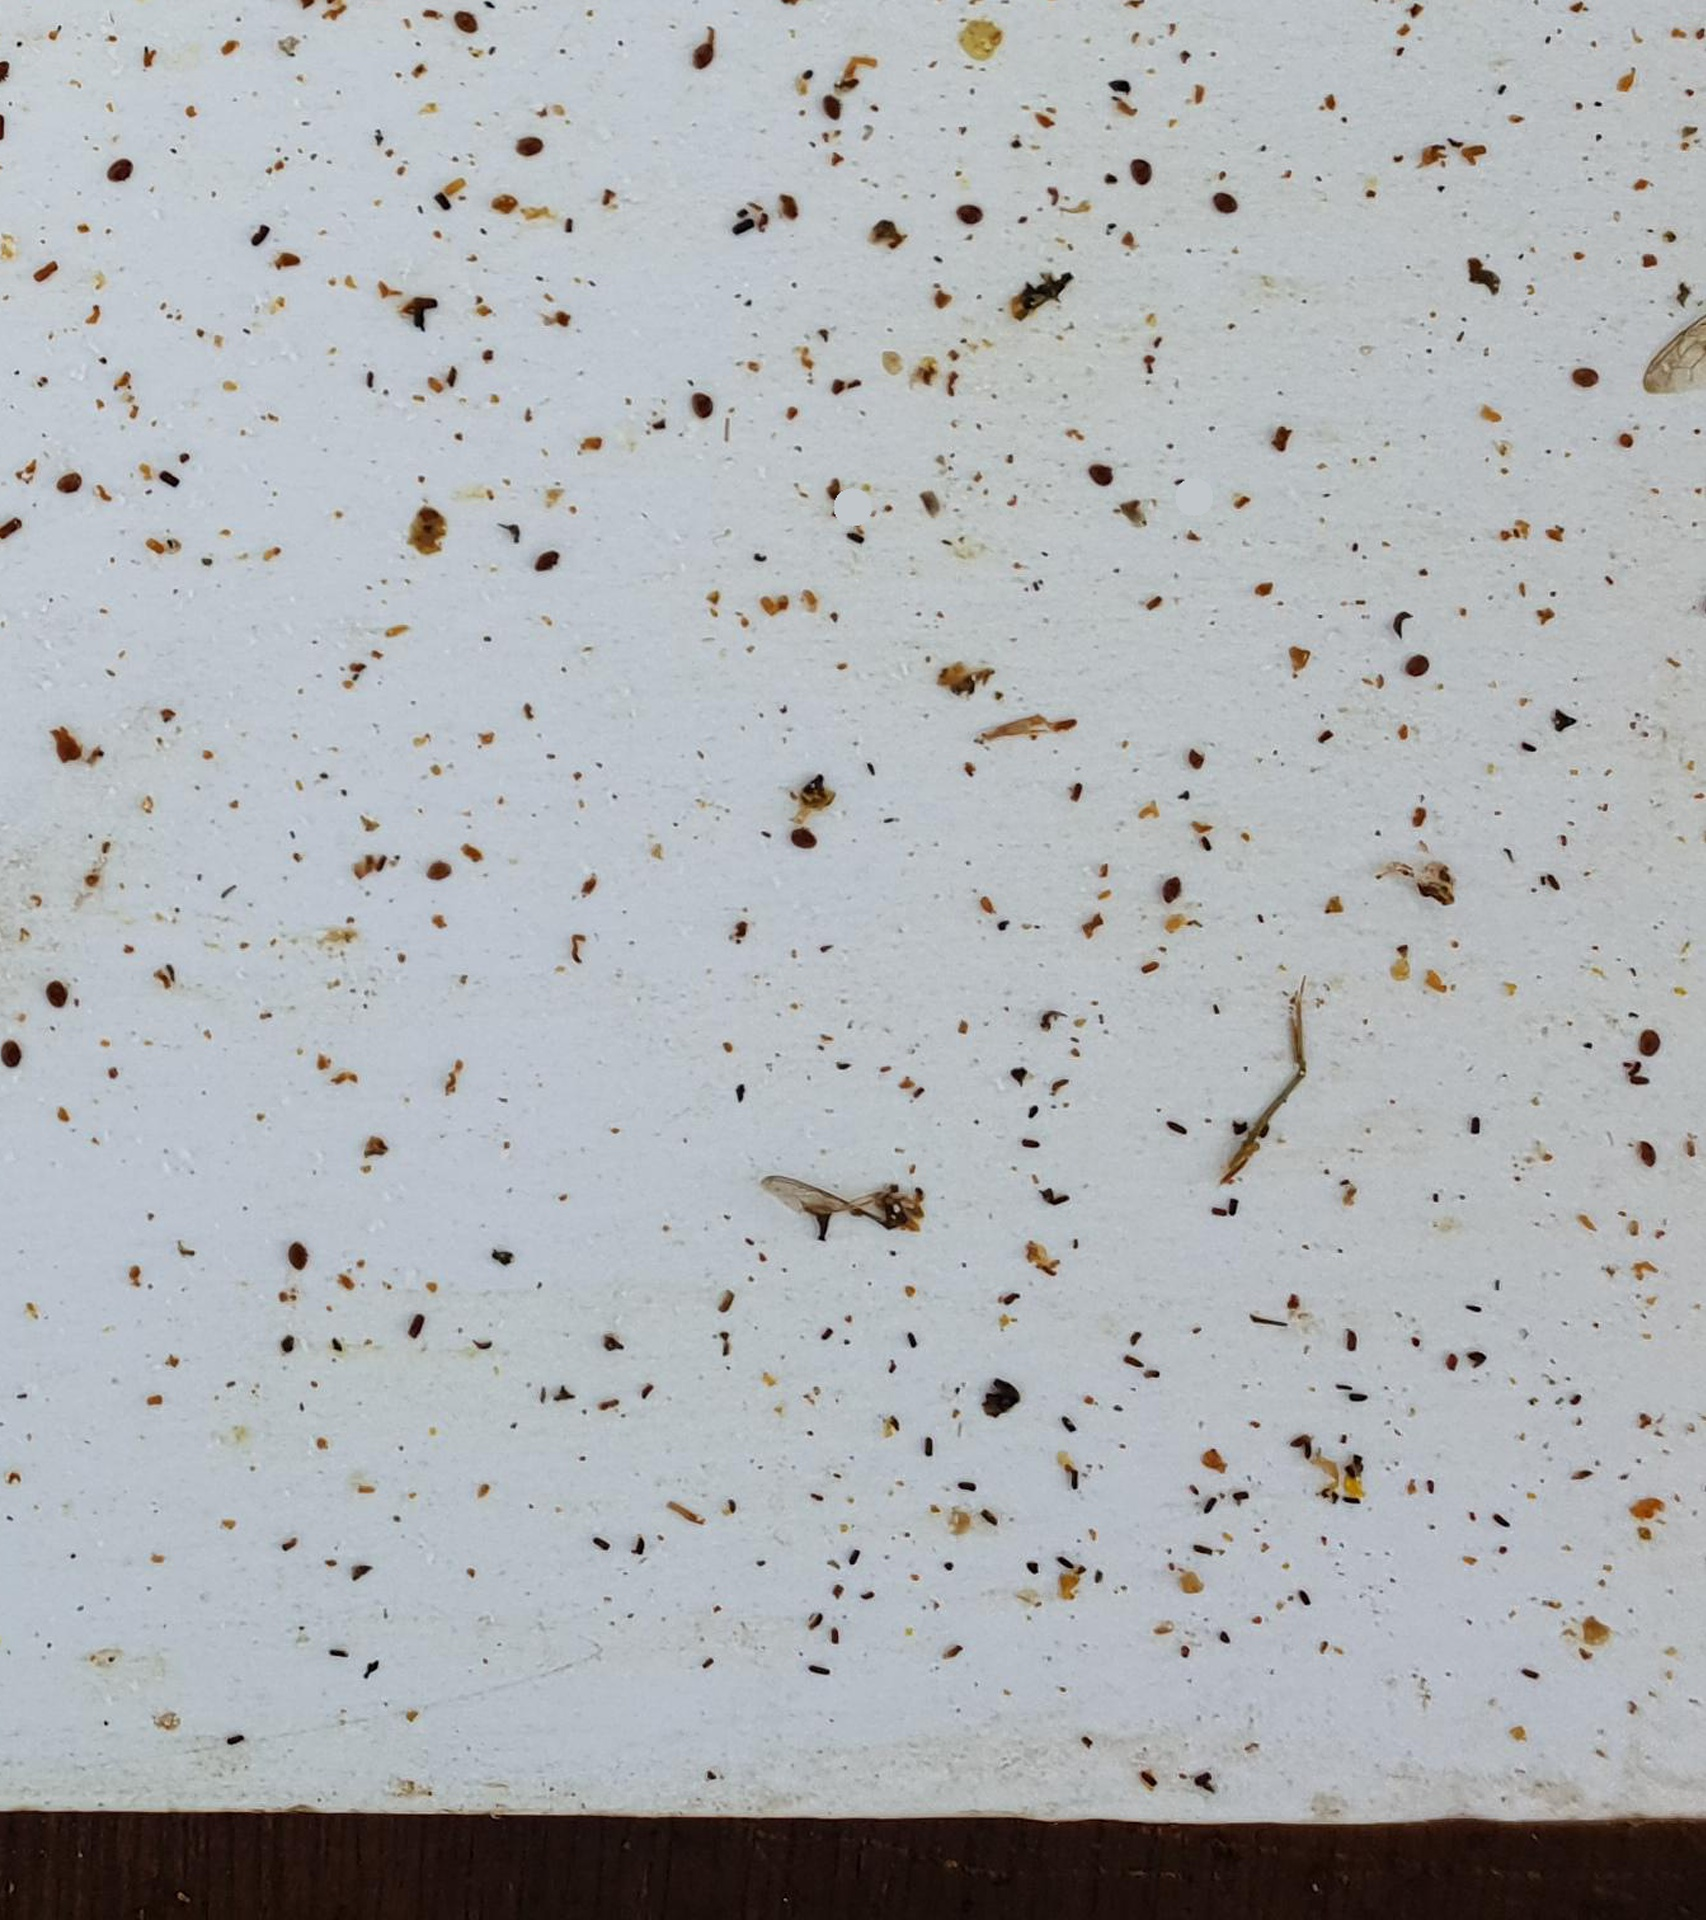Varroa: (818, 92, 846, 120), (1085, 461, 1112, 489), (1574, 361, 1601, 387), (456, 7, 482, 31), (688, 392, 713, 417), (958, 199, 981, 226), (535, 547, 562, 570), (8, 1046, 31, 1070), (520, 133, 543, 156), (426, 856, 450, 879), (1642, 1028, 1663, 1052), (698, 44, 720, 69), (1635, 1139, 1657, 1164), (1128, 156, 1151, 178), (58, 469, 79, 492), (46, 981, 66, 1006), (1406, 654, 1428, 675), (288, 1243, 306, 1265), (1159, 879, 1176, 896), (1222, 194, 1235, 209), (792, 833, 807, 845), (119, 161, 130, 175), (1172, 889, 1184, 902)
